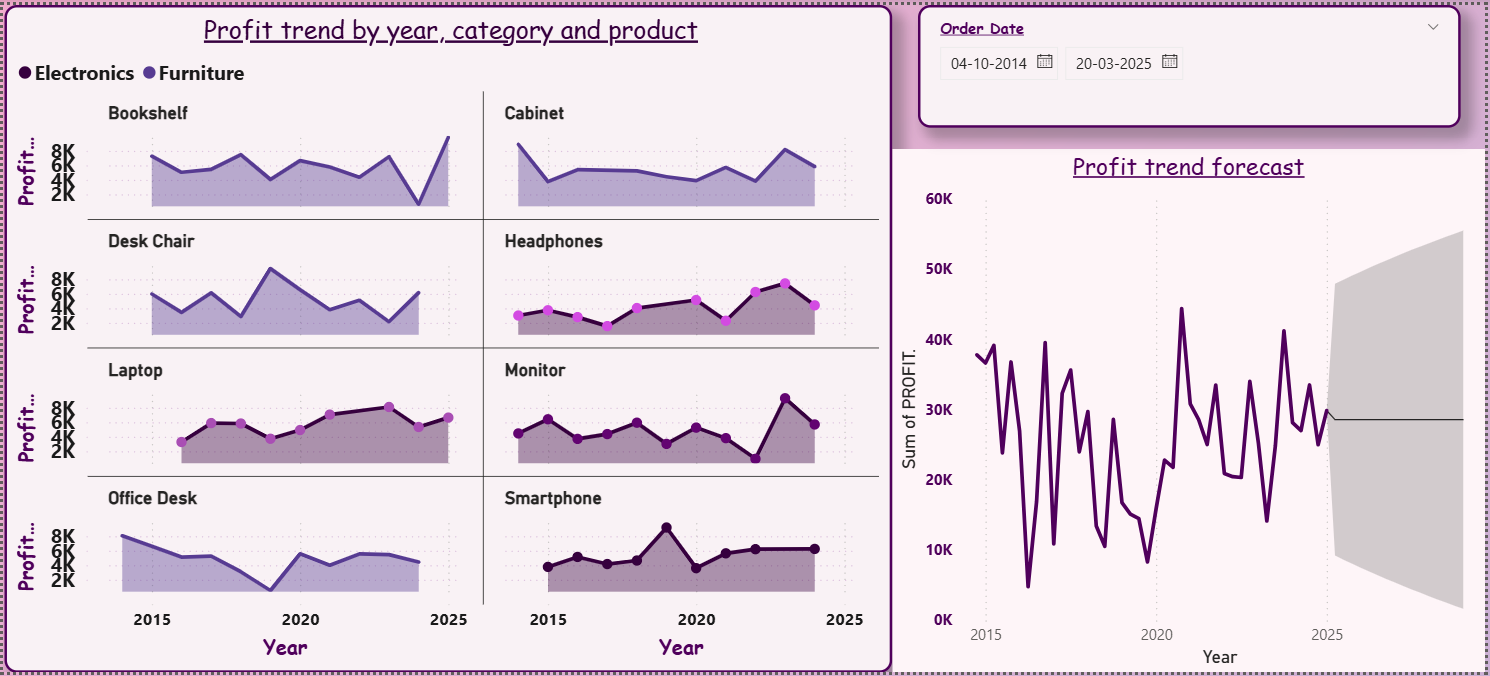

What the dashboard file says about the page in this screenshot:
{"tool":"powerbi","page":{"name":"Profit trend","canvas":[1200,540],"ordinal":1},"visuals":[{"type":"lineChart","title":"Profit trend by year, category and product","fields":{"Category":["SalesData_1000Rows_WithIssues_copy.OrderDate.Variation.Date Hierarchy.Year","SalesData_1000Rows_WithIssues_copy.OrderDate.Variation.Date Hierarchy.Quarter","SalesData_1000Rows_WithIssues_copy.OrderDate.Variation.Date Hierarchy.Month"],"Y":["Avg(SalesData_1000Rows_WithIssues_copy.PROFIT.)"],"Rows":["SalesData_1000Rows_WithIssues_copy.PRODUCT."],"Series":["SalesData_1000Rows_WithIssues_copy.Category"]},"box":[1.2,0,718.9,540.4],"z":0},{"type":"lineChart","title":"Profit trend forecast","fields":{"Y":["Sum(SalesData_1000Rows_WithIssues_copy.PROFIT.)"],"Category":["SalesData_1000Rows_WithIssues_copy.OrderDate.Variation.Date Hierarchy.Year","SalesData_1000Rows_WithIssues_copy.OrderDate.Variation.Date Hierarchy.Quarter"]},"box":[720.2,116.6,479.7,423.8],"z":1000},{"type":"slicer","fields":{"Values":["SalesData_1000Rows_WithIssues_copy.OrderDate"]},"box":[740.8,0,439.6,99.6],"z":2000}]}

Visuals, with their boxes in screenshot pixels (x1, y1, x2, y2), scaled from the page's 1200x540 canvas onto the 1490x676 screenshot:
"Profit trend by year, category and product" lineChart: box=[1, 0, 894, 675]
"Profit trend forecast" lineChart: box=[894, 146, 1489, 675]
slicer - SalesData_1000Rows_WithIssues_copy.OrderDate: box=[920, 0, 1466, 125]
